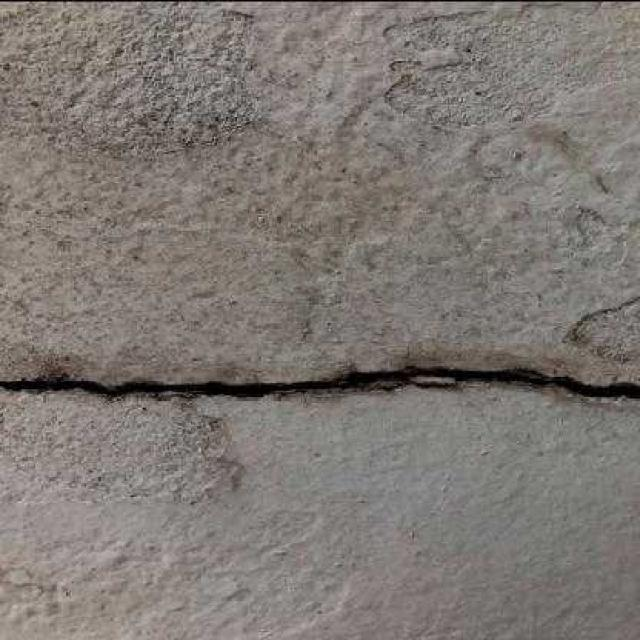D00: (0, 367, 640, 397)
